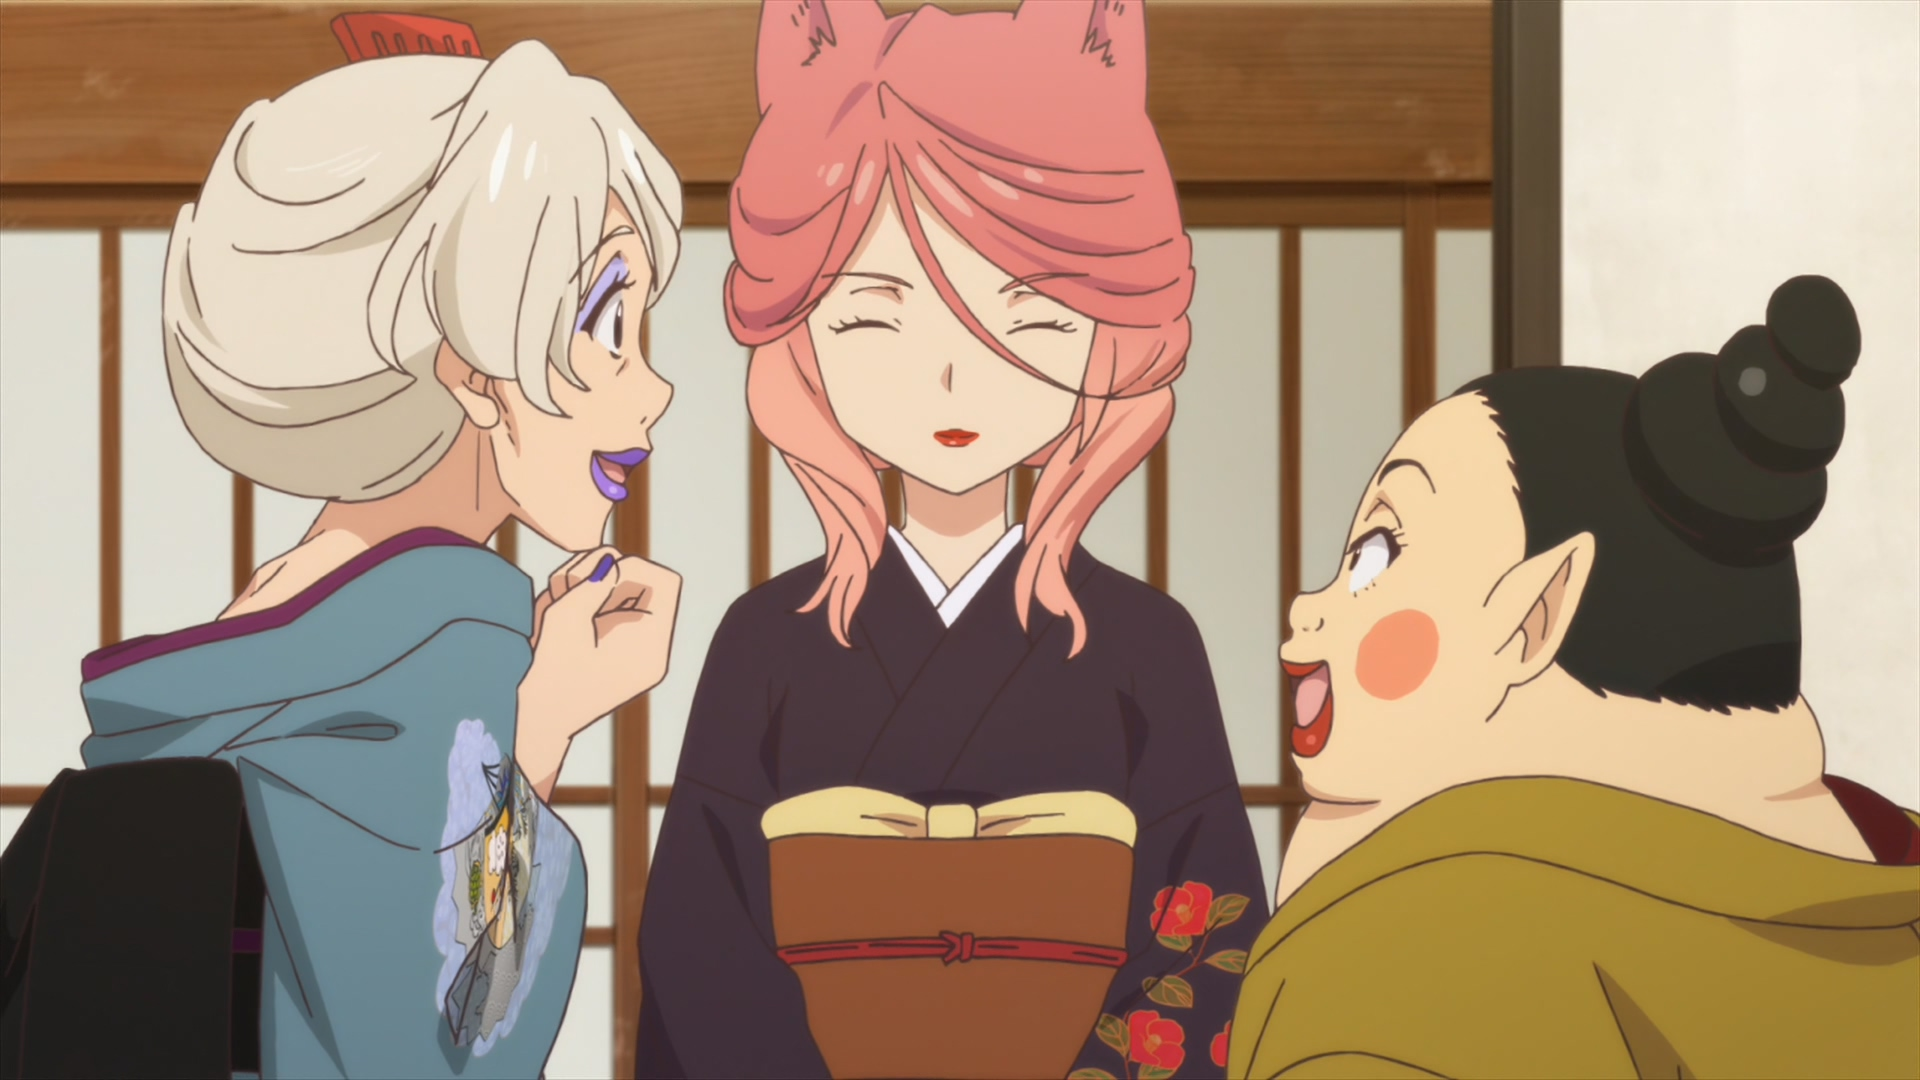其他: (1, 13, 683, 1080), (1224, 276, 1920, 1080)
椿: (634, 1, 1273, 1080)
